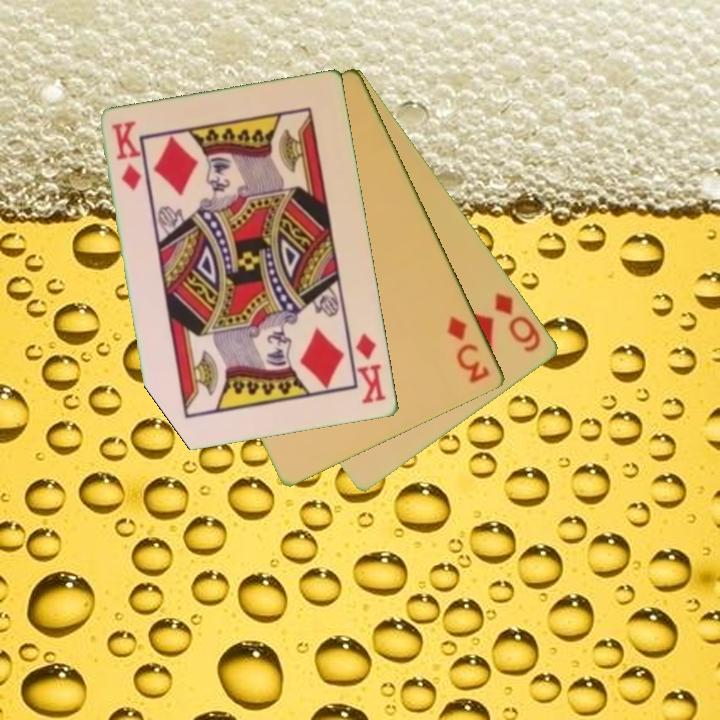3d: (444, 313, 493, 387)
6d: (491, 289, 545, 356)
Kd: (353, 330, 390, 407), (109, 118, 145, 194)
